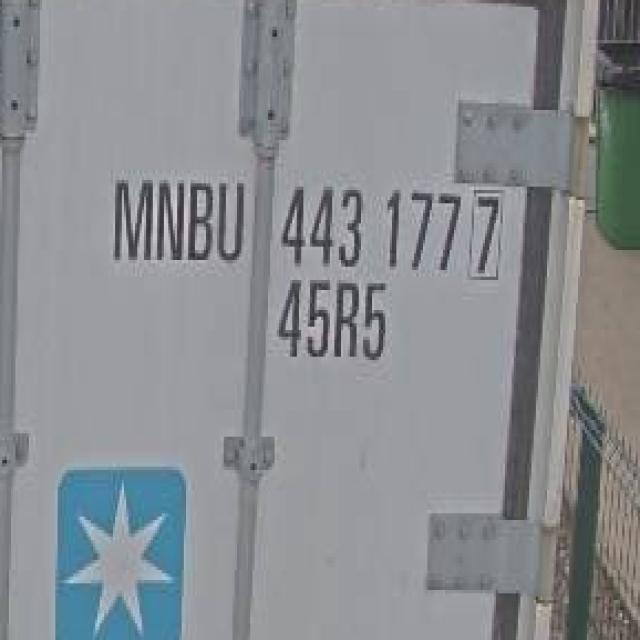dv: (466, 184, 511, 288)
owner: (105, 157, 245, 274)
serial: (280, 172, 467, 274)
size: (265, 277, 406, 368)
